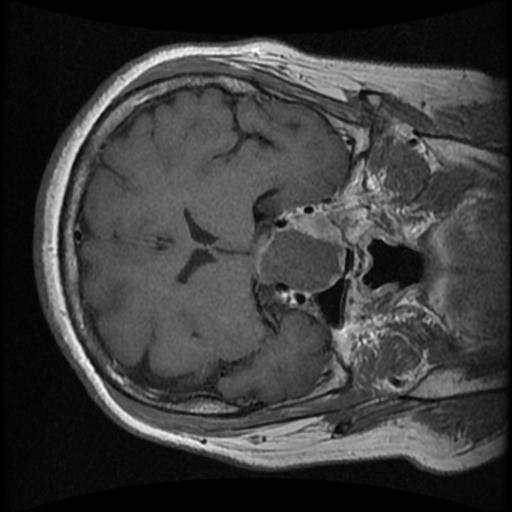pituitary tumour: (257, 229, 339, 294)
